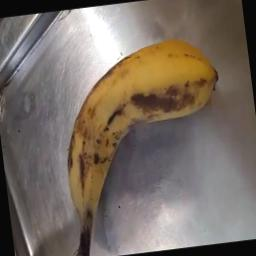Banana Overripe: (33, 29, 256, 256)
